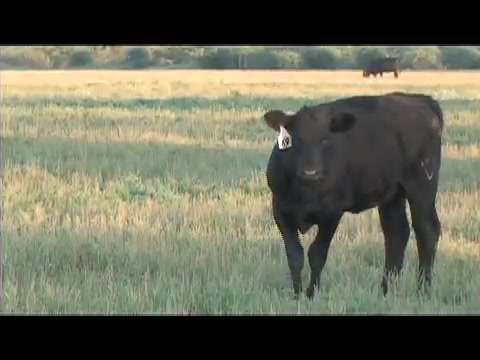cow: (265, 91, 449, 305), (361, 57, 403, 80)
